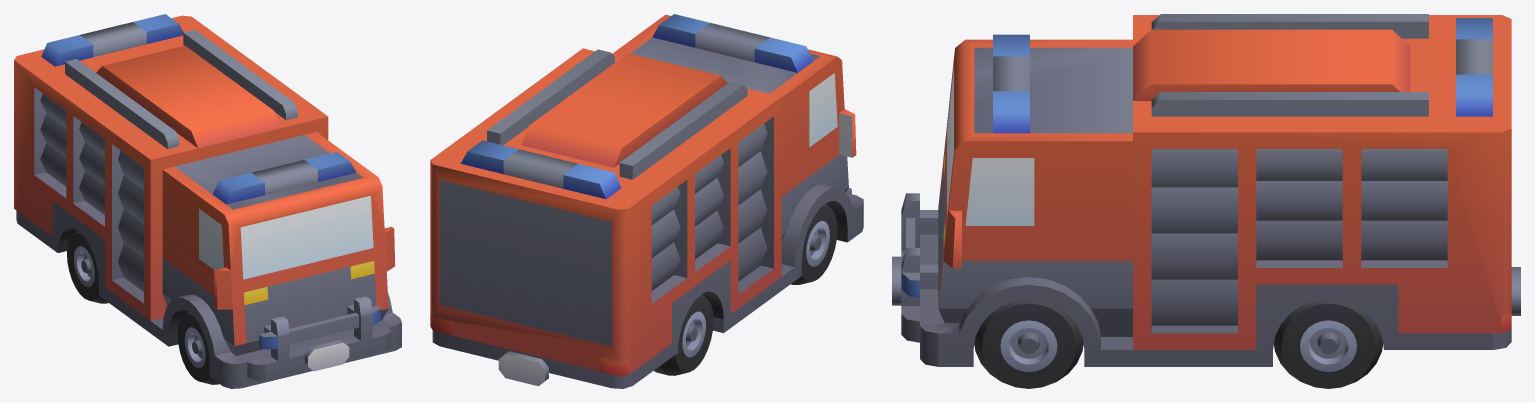
File: brandbil.glb
3 views of the same model, side by side, from view 1: azimuth 30°, elevation 25°; view 2: azimuth 150°, elevation 25°; view 3: azimuth 270°, elevation 25° (orthographic). The views are drawn at different scales.
Visible parts, largest first — view 1: body, grill, wheel-front-right, wheel-back-right; view 2: body, wheel-back-right, wheel-front-right; view 3: body, wheel-front-left, wheel-back-left, grill.
Boxes of the visible parts, box(x1,y1,x2,y2) form: body: box(14, 14, 401, 388); grill: box(247, 296, 390, 380); wheel-front-right: box(177, 312, 219, 384); wheel-back-right: box(67, 230, 108, 303); body: box(430, 14, 863, 388); wheel-back-right: box(654, 294, 713, 375); wheel-front-right: box(791, 203, 837, 284); body: box(920, 14, 1520, 366); wheel-front-left: box(974, 300, 1083, 388); wheel-back-left: box(1274, 300, 1382, 388); grill: box(892, 193, 938, 342).
Size of the model in its own units: 1.5 by 1.7 by 3.4.
Materials: 1 (1 with a texture image).
